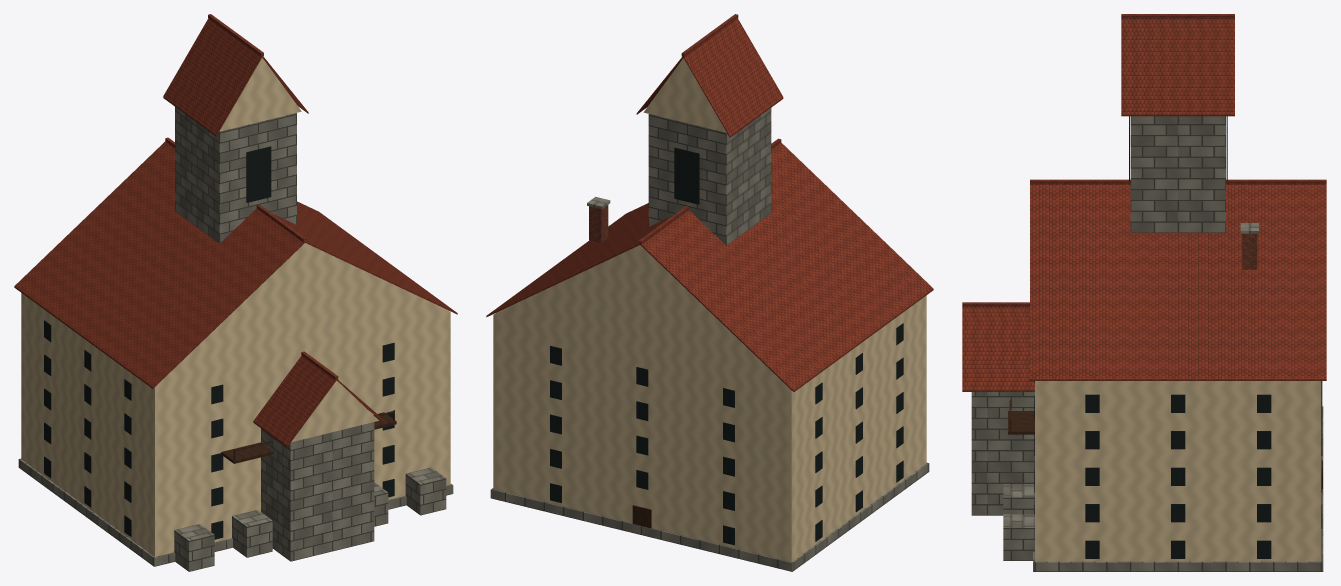
File: SG_CivicHall_LOD2.fbx
3 renders of one model, left to right at view 1: azimuth 30°, elevation 25°; view 2: azimuth 150°, elevation 25°; view 3: azimuth 270°, elevation 25°, orthographic. The views are drawn at different scales.
Visible parts, largest first — view 1: SG_CivicHall_Detail2; view 2: SG_CivicHall_Detail2; view 3: SG_CivicHall_Detail2.
Part boxes in pixels (bbox=[...]): SG_CivicHall_Detail2: bbox=[14, 14, 457, 571]; SG_CivicHall_Detail2: bbox=[486, 14, 933, 571]; SG_CivicHall_Detail2: bbox=[962, 14, 1326, 571].
Bounding box in the file's own units: 47.4 × 66.46 × 45.8.
